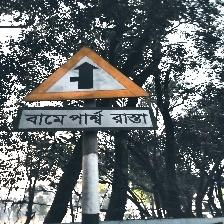Side-road-left: (17, 46, 158, 133)
